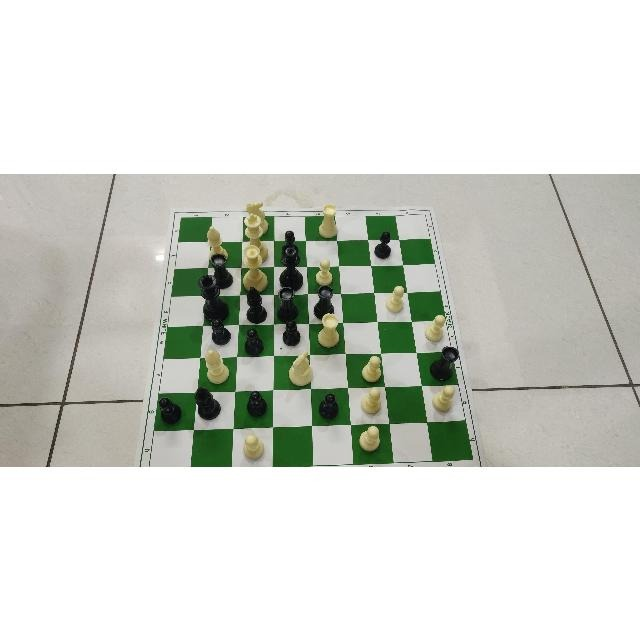black-bishop: (194, 386, 222, 420), (246, 284, 268, 323)
black-king: (196, 273, 229, 321)
black-pawn: (158, 396, 182, 424), (246, 389, 268, 416), (318, 392, 339, 420), (245, 328, 265, 356), (211, 317, 231, 345), (282, 318, 301, 346), (373, 230, 392, 258), (281, 228, 300, 256)
black-queen: (279, 241, 304, 290)
black-rook: (429, 345, 459, 381), (210, 253, 234, 289), (275, 285, 298, 321), (313, 283, 336, 319)
white-bishop: (205, 224, 229, 263), (204, 348, 230, 384)
white-king: (242, 212, 269, 264)
white-knight: (288, 349, 314, 386), (245, 201, 270, 235)
white-pawn: (432, 384, 456, 412), (424, 314, 446, 342), (360, 386, 382, 414), (384, 283, 405, 312), (243, 432, 265, 459), (358, 424, 379, 452), (362, 353, 382, 382), (315, 257, 333, 285)
white-queen: (241, 243, 268, 292)
white-rook: (317, 312, 341, 348), (317, 202, 339, 238)
